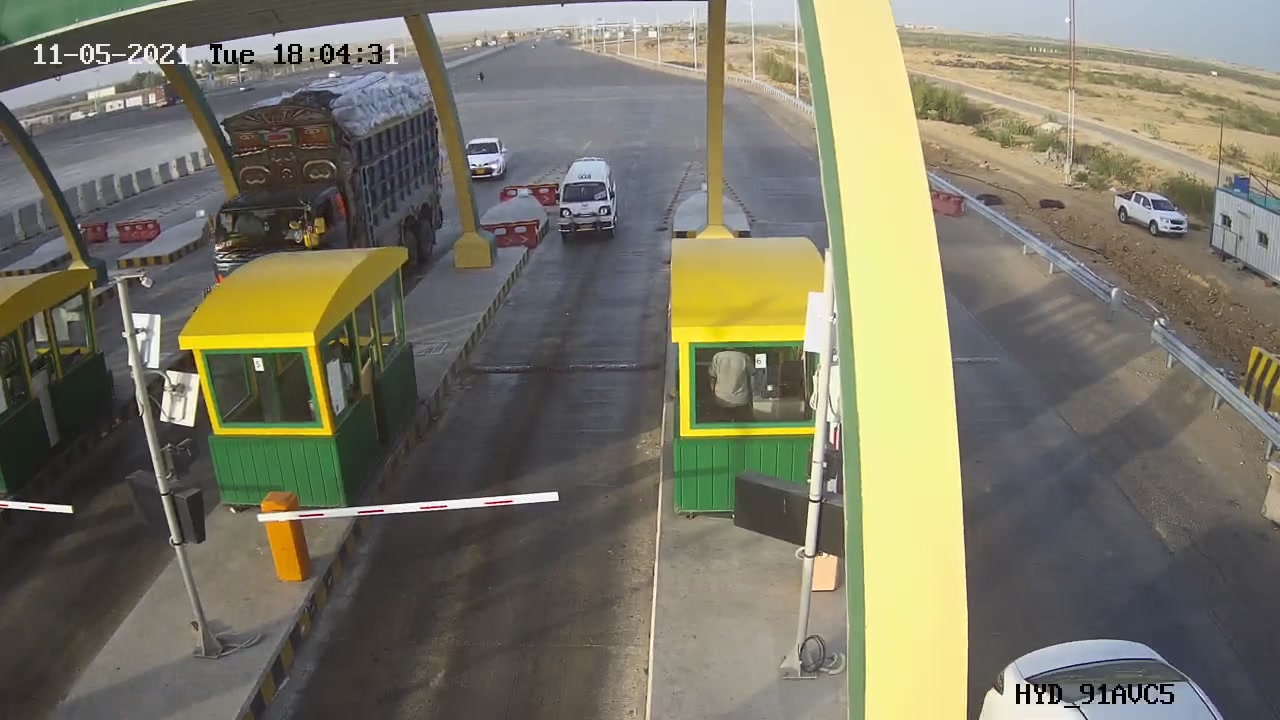F1: (533, 148, 638, 252)
